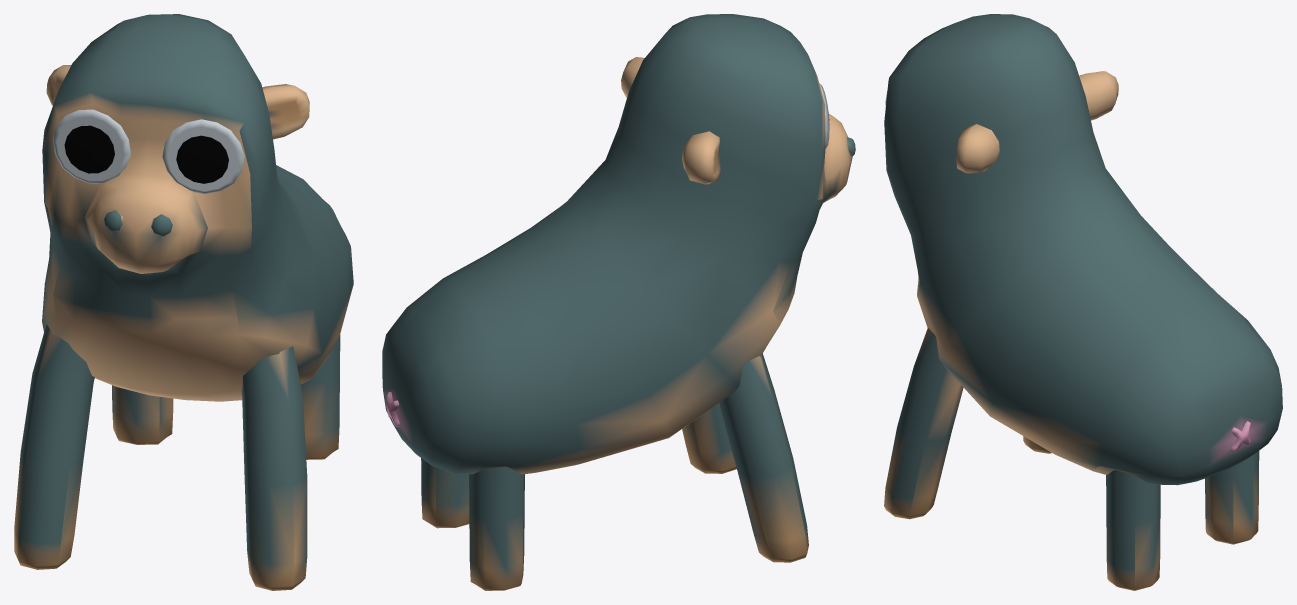
Rendered from Chimp.glb.
The picture shows the model from 3 angles, left to right: view 1: azimuth 30°, elevation 25°; view 2: azimuth 150°, elevation 25°; view 3: azimuth 270°, elevation 25°; orthographic projection. The views are drawn at different scales.
Visible parts, largest first — view 1: 27; view 2: 27; view 3: 27.
Part boxes in pixels (<box>): 27: <box>14,14,353,590</box>; 27: <box>382,14,855,590</box>; 27: <box>884,14,1282,590</box>.
Bounding box in the file's own units: 0.7005 × 0.921 × 0.7216.
